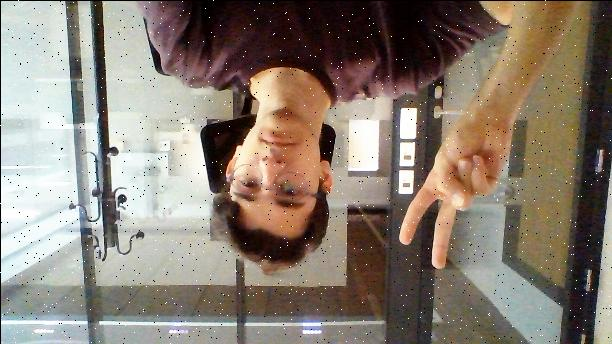Scissors: (397, 113, 515, 270)
